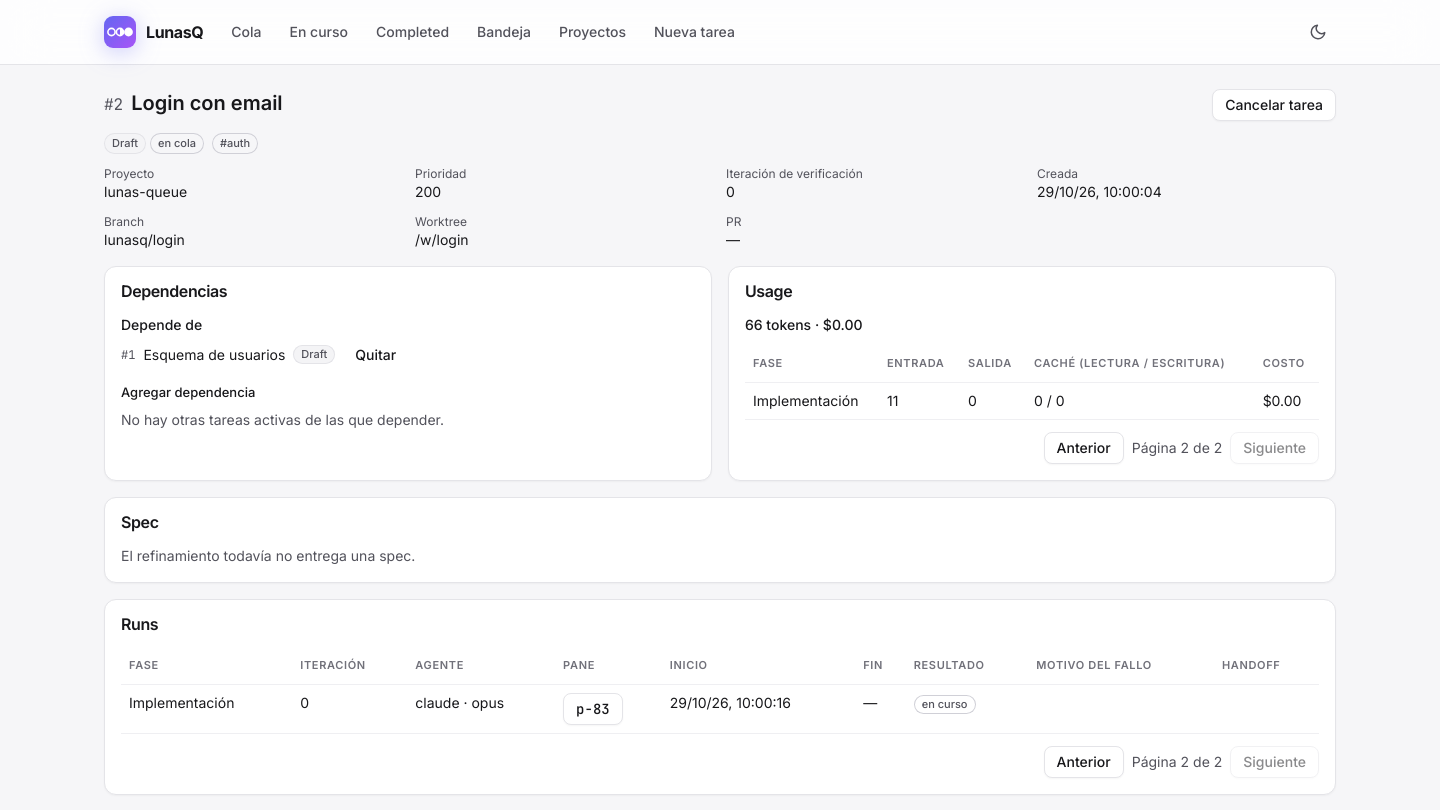
it: detalle de tarea › muestra la última página de Usage por default y permite navegar
The image size is (1440, 810).
Check: the text "11" is shown, box [879,382,960,420]
Check: the text "Página 2 de 2" below "11" is shown, box [1132,438,1222,458]
Click the button "Anterior" below "11": (1084, 448) [1044,432,1124,464]
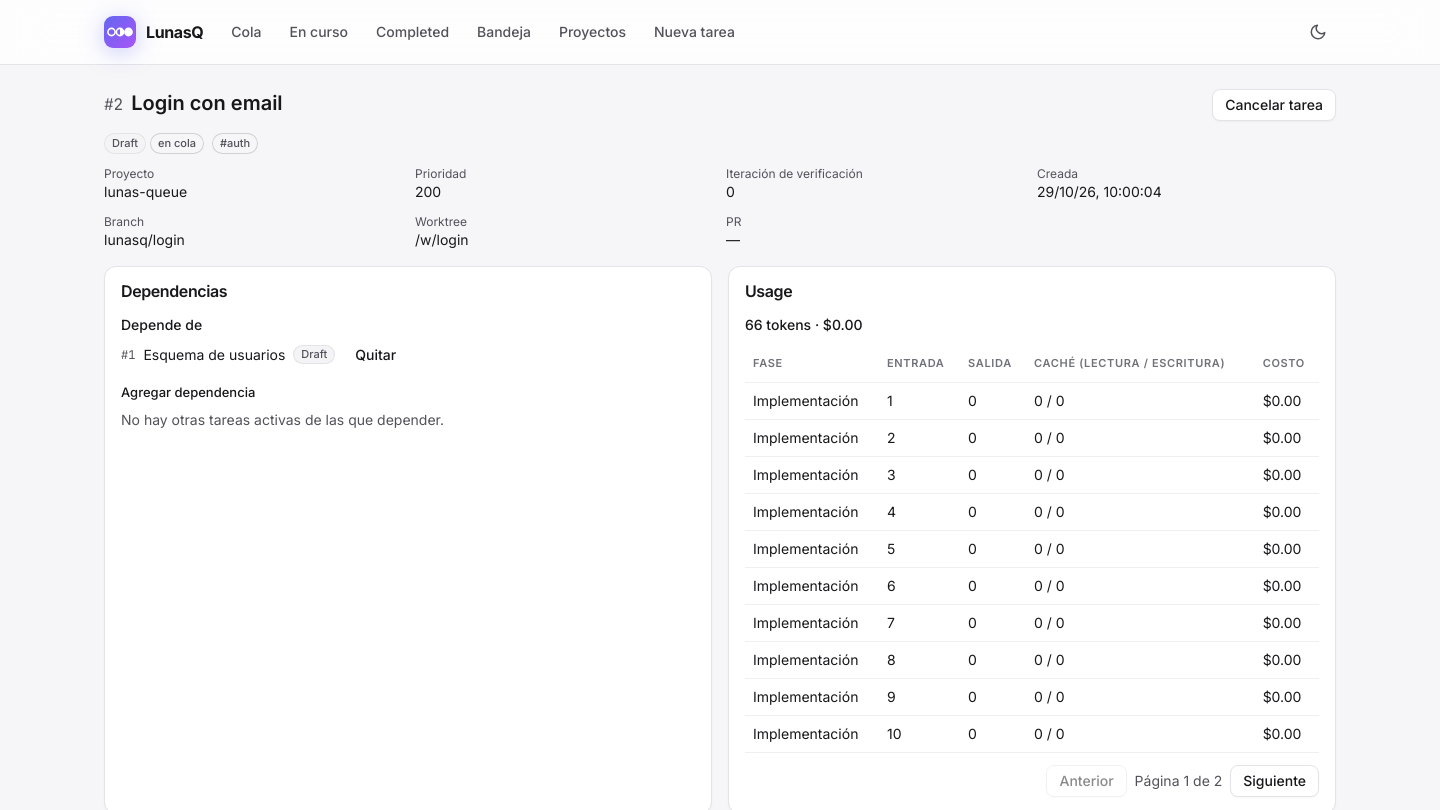
Check: the text "1" is shown, box [879,382,960,420]
Check: the text "11" is gone
